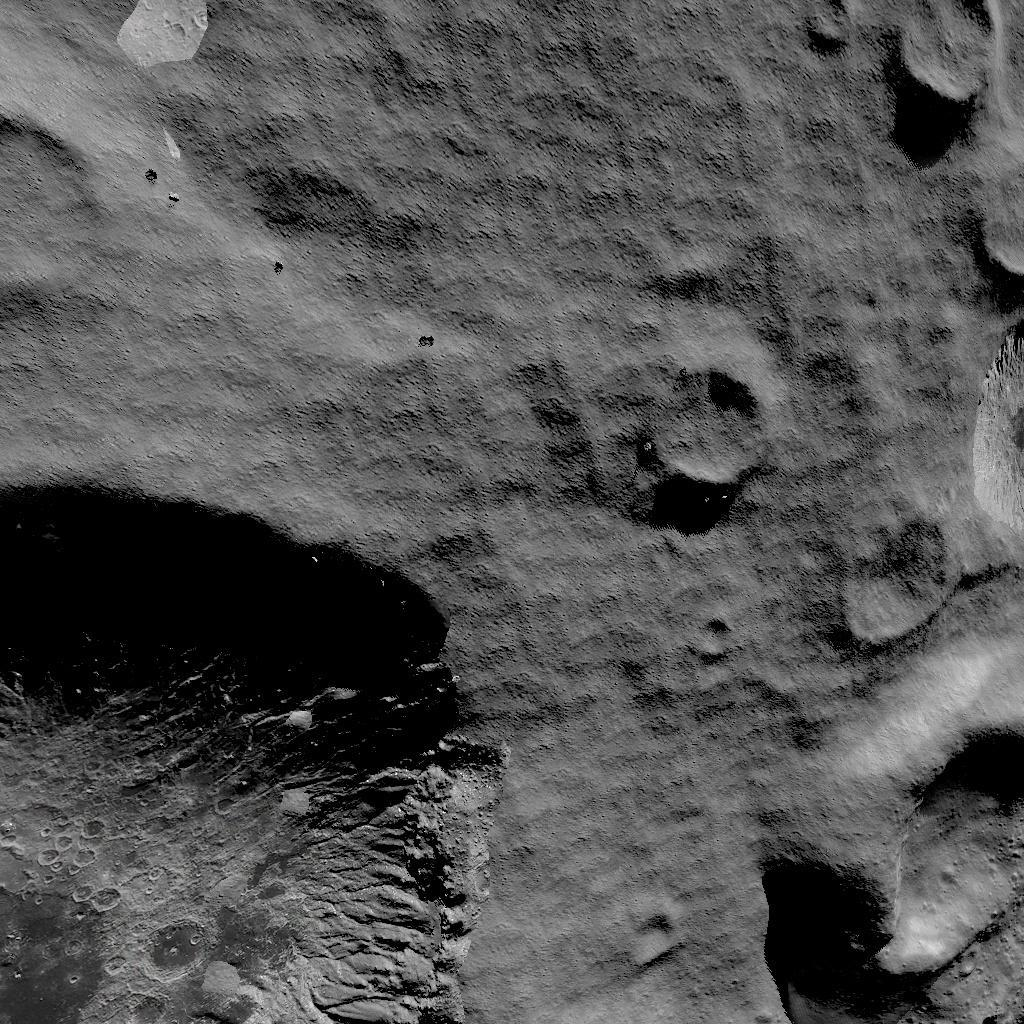Boulders: (115, 0, 211, 78)
Crater: (0, 472, 509, 1024), (773, 684, 1024, 1024), (813, 319, 1024, 652), (0, 108, 117, 313), (635, 364, 778, 502), (879, 0, 1005, 124), (963, 156, 1024, 289), (801, 2, 856, 62)
Plan surface: (139, 100, 613, 456), (631, 98, 871, 297)
